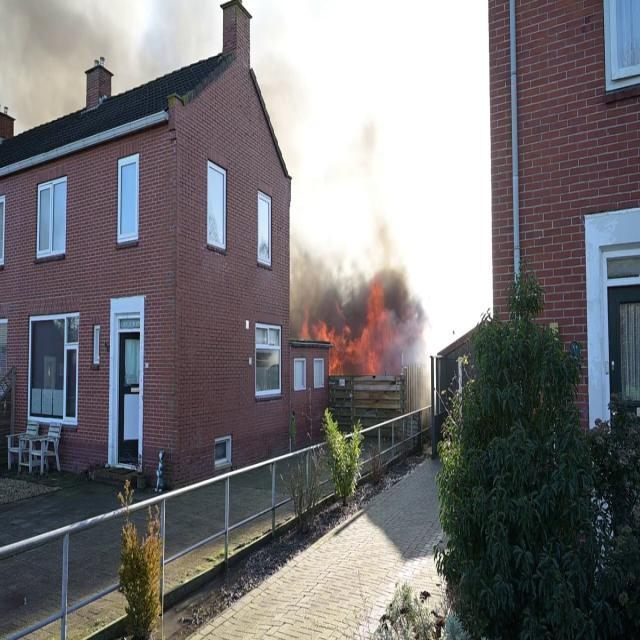Fire: (298, 302, 387, 374)
Smoke: (289, 234, 424, 366)
